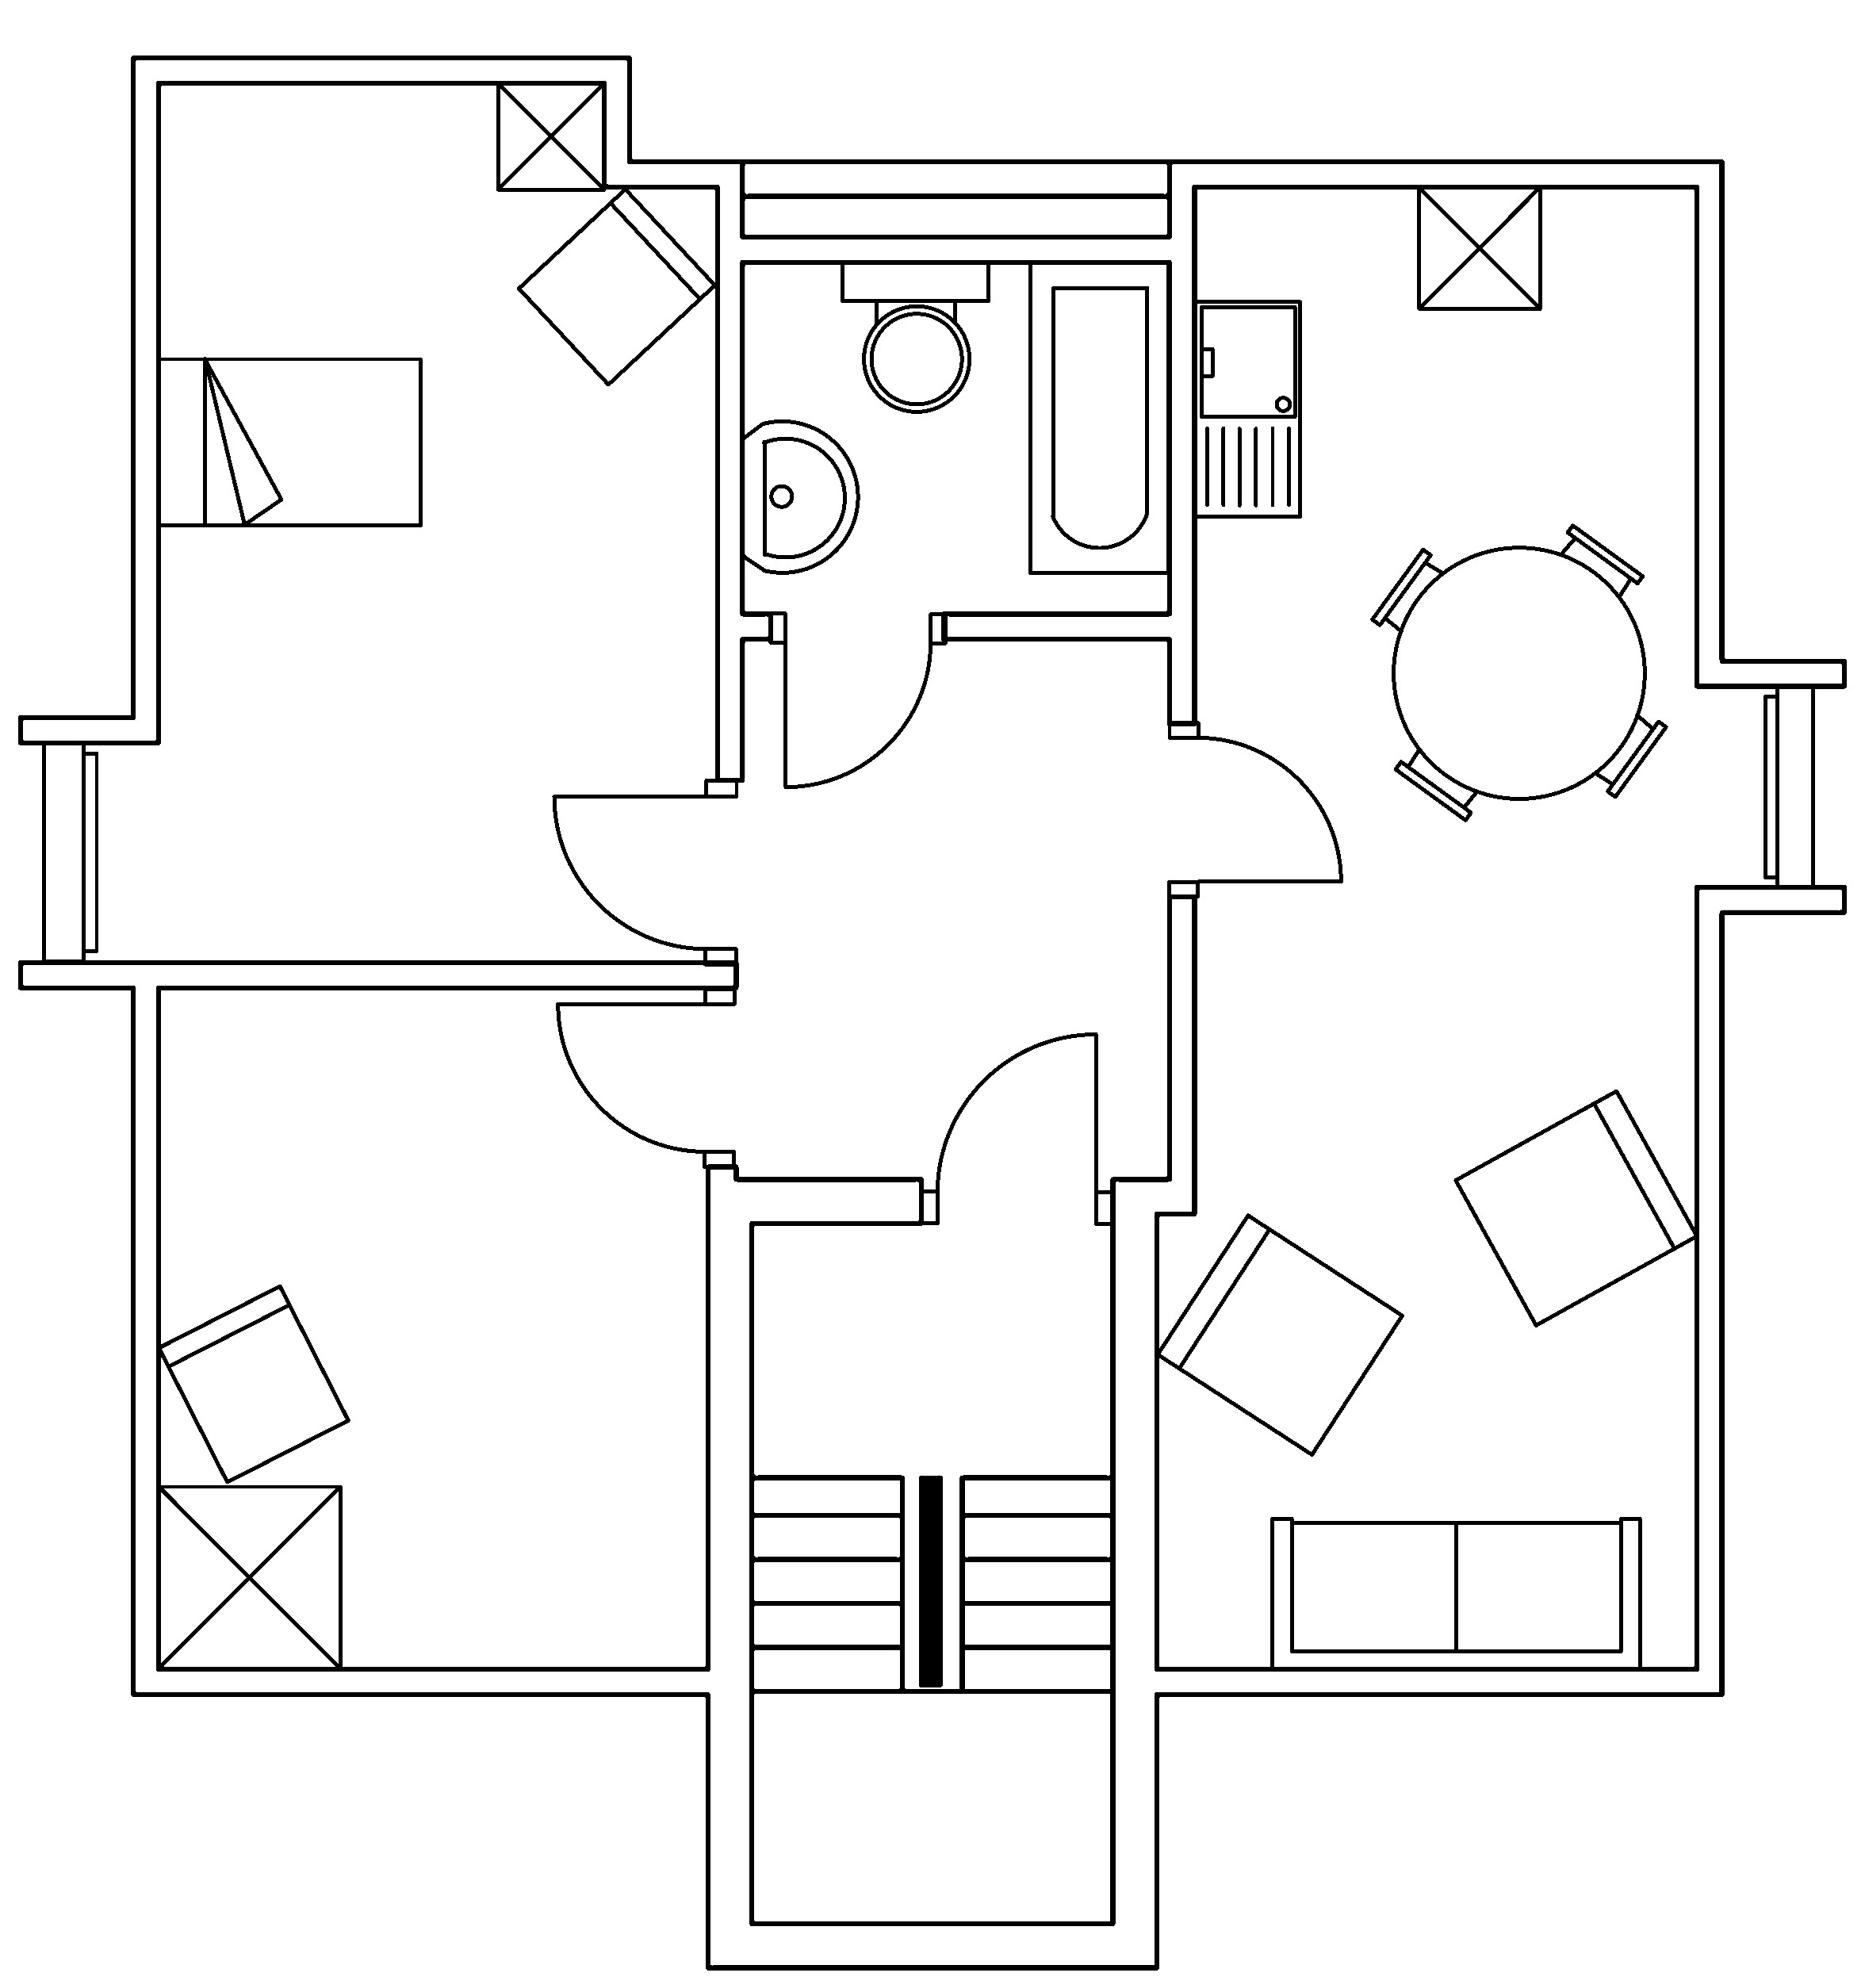bed: (154, 354, 424, 528)
coffee_table: (154, 1481, 342, 1671), (1416, 182, 1542, 310), (494, 79, 606, 191)
large_sink: (840, 258, 990, 412)
large_sofa: (1269, 1515, 1642, 1672)
round_table: (1369, 522, 1669, 822)
sink: (1192, 298, 1302, 519)
small_sink: (740, 419, 859, 573)
small_sofa: (1153, 1211, 1406, 1457), (1451, 1087, 1698, 1327), (515, 186, 717, 387), (156, 1282, 351, 1485)
tub: (1027, 258, 1171, 575)
